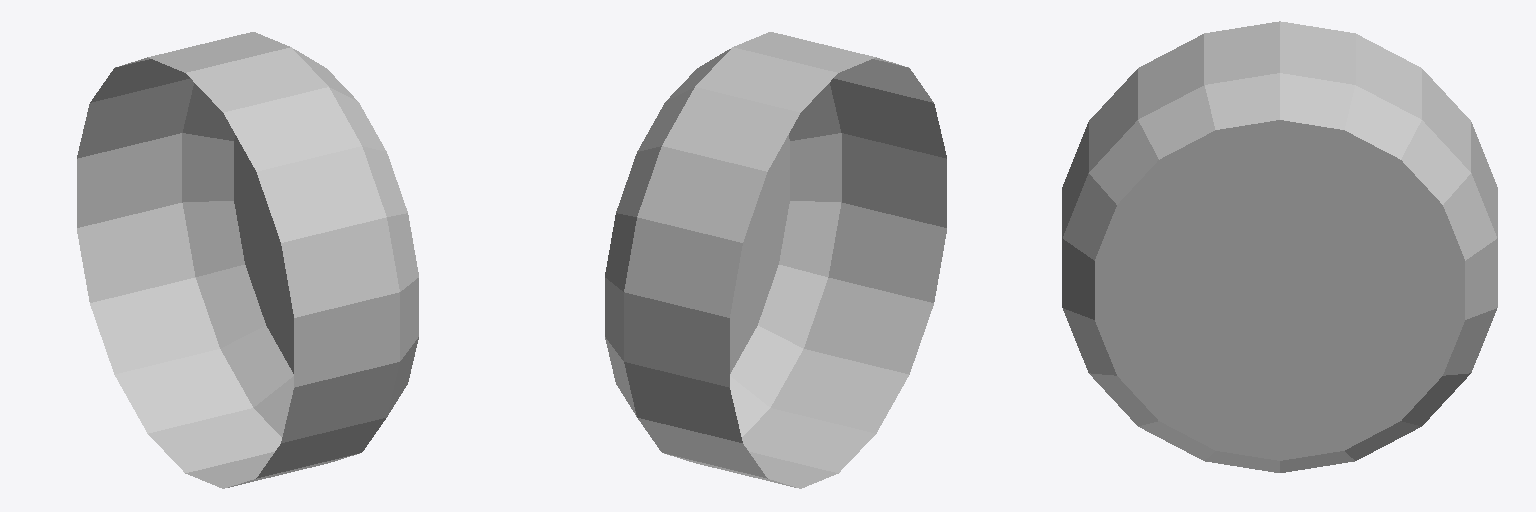
Rendered from Tire back left unwrapped.obj.
3 renders of one model, left to right at view 1: azimuth 30°, elevation 25°; view 2: azimuth 150°, elevation 25°; view 3: azimuth 270°, elevation 25°, orthographic.
Visible parts, largest first — view 1: Wheel_back_left; view 2: Wheel_back_left; view 3: Wheel_back_left.
Part boxes in pixels (x1,y1,x2,y2): Wheel_back_left: (77, 32, 418, 488); Wheel_back_left: (605, 32, 946, 488); Wheel_back_left: (1062, 21, 1497, 472).
Size of the model in its own units: 12.65 by 34.28 by 33.76.